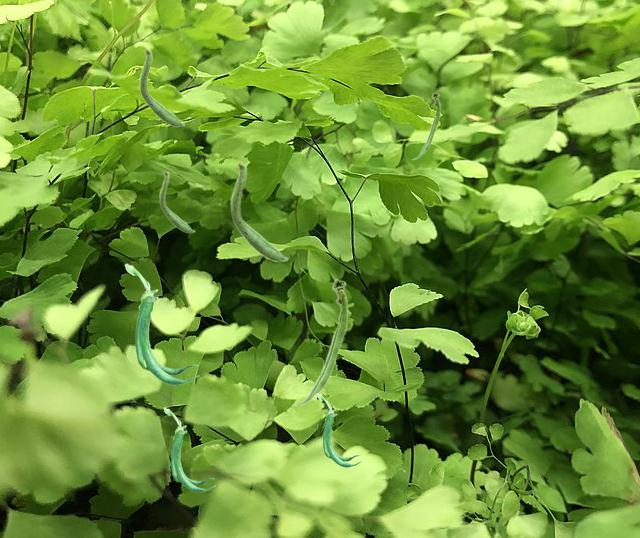french_bean: (124, 263, 198, 384), (294, 278, 347, 405), (230, 161, 287, 261), (163, 407, 214, 491), (139, 48, 184, 126), (316, 393, 360, 466), (159, 170, 194, 232), (411, 92, 439, 159)
